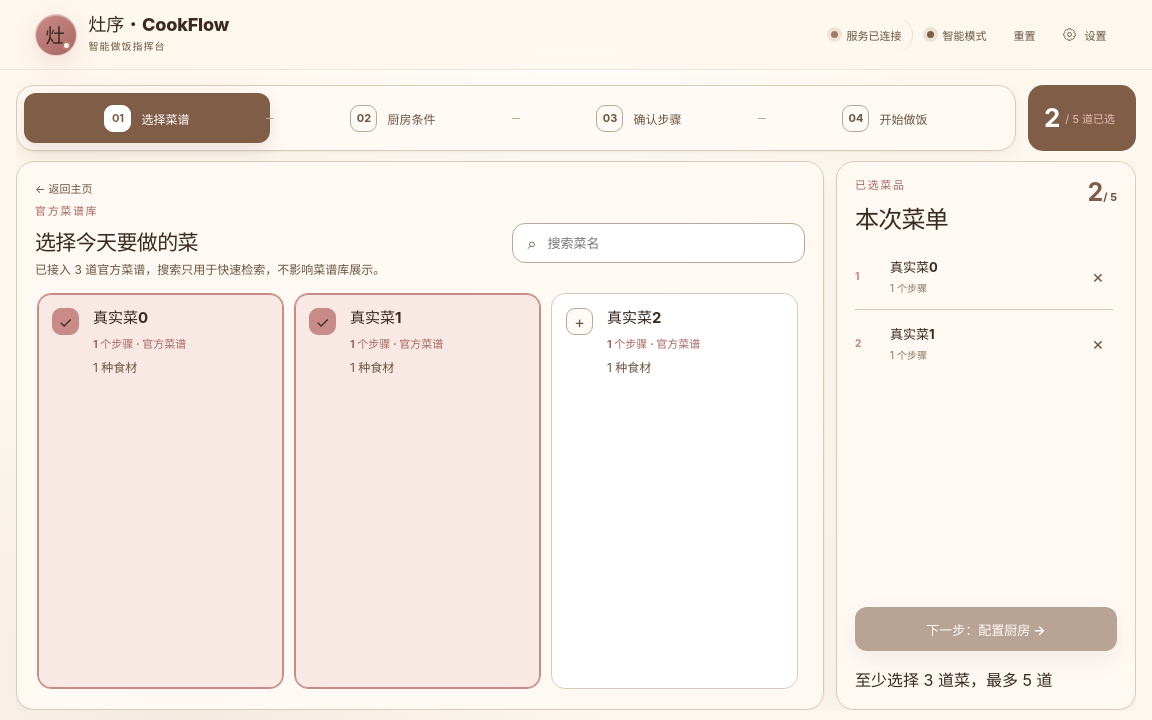
Test: HTTP: kitchen configuration reaches the real schedule request and the generated schedule is reused when cooking starts
Earlier steps of the test are not shown.
Later steps or results of the test are not shown.
Click the button "+ 真实菜2 1 个步骤 · 官方菜谱 1 种食材" at (674, 491), box [551,293,798,689]
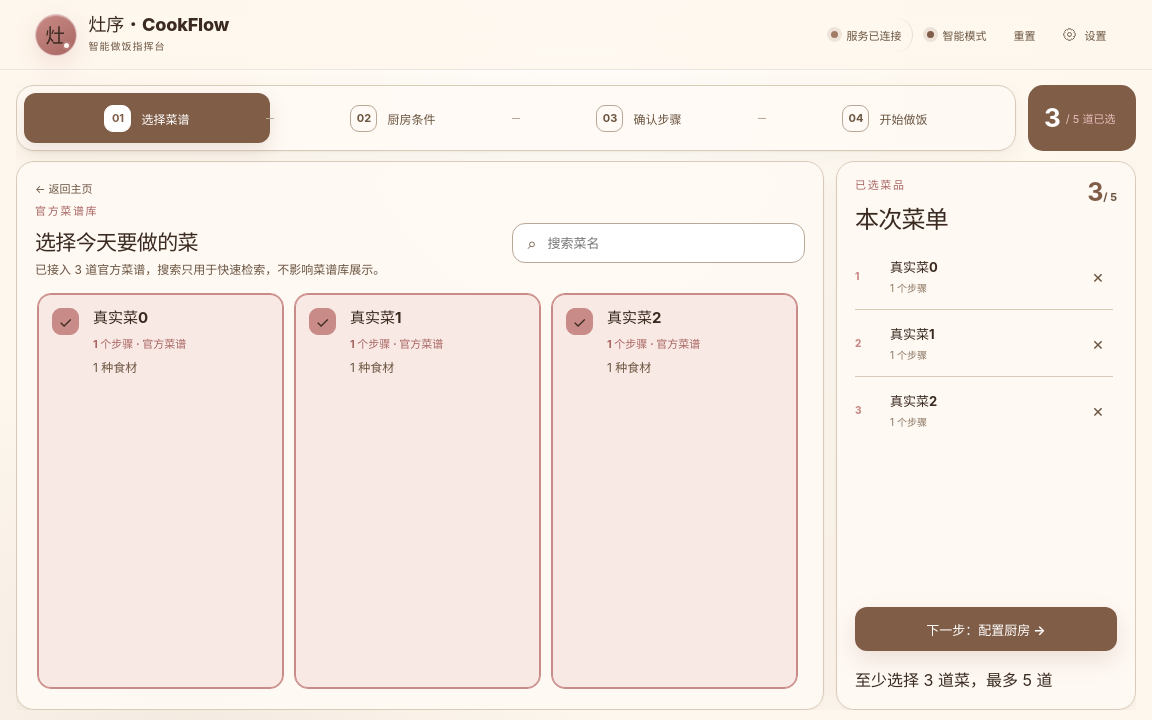
// Pick an explicit future day: a bare clock time is no longer a valid deadline.
Click the button "下一步：配置厨房 →" at (986, 629), box [855,607,1117,651]
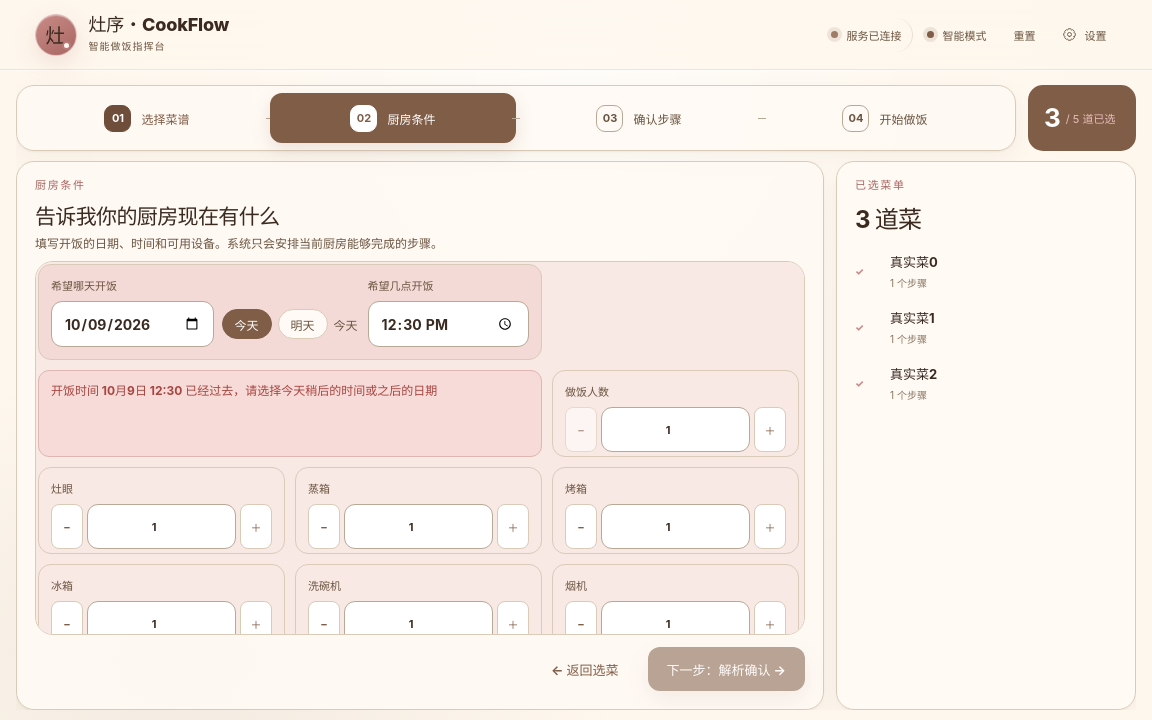
Now the heading "告诉我你的厨房现在有什么" is shown, box [35,204,280,229]
Replace the text in the number field named "灶眼" with "2" at (162, 526), box [87,504,236,549]
Click the button "明天" at (303, 324), box [278,309,328,339]
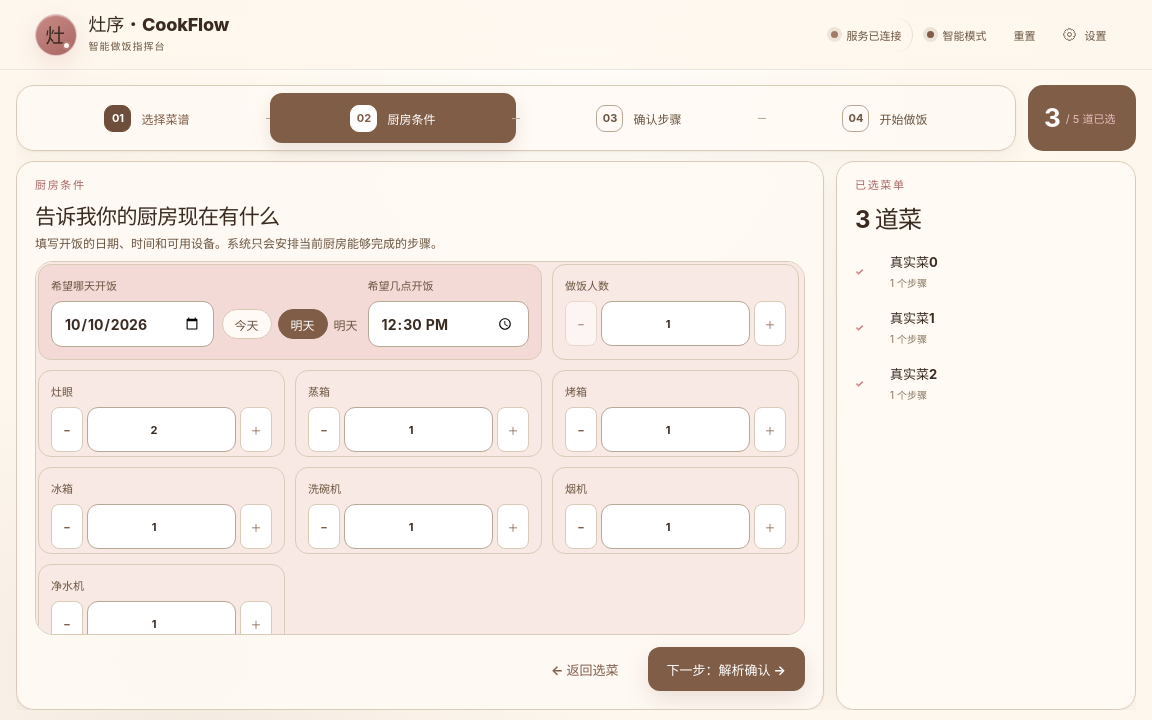
// Pick an explicit future day: a bare clock time is no longer a valid deadline.
Click the button "下一步：解析确认 →" at (726, 669), box [648,647,805,691]
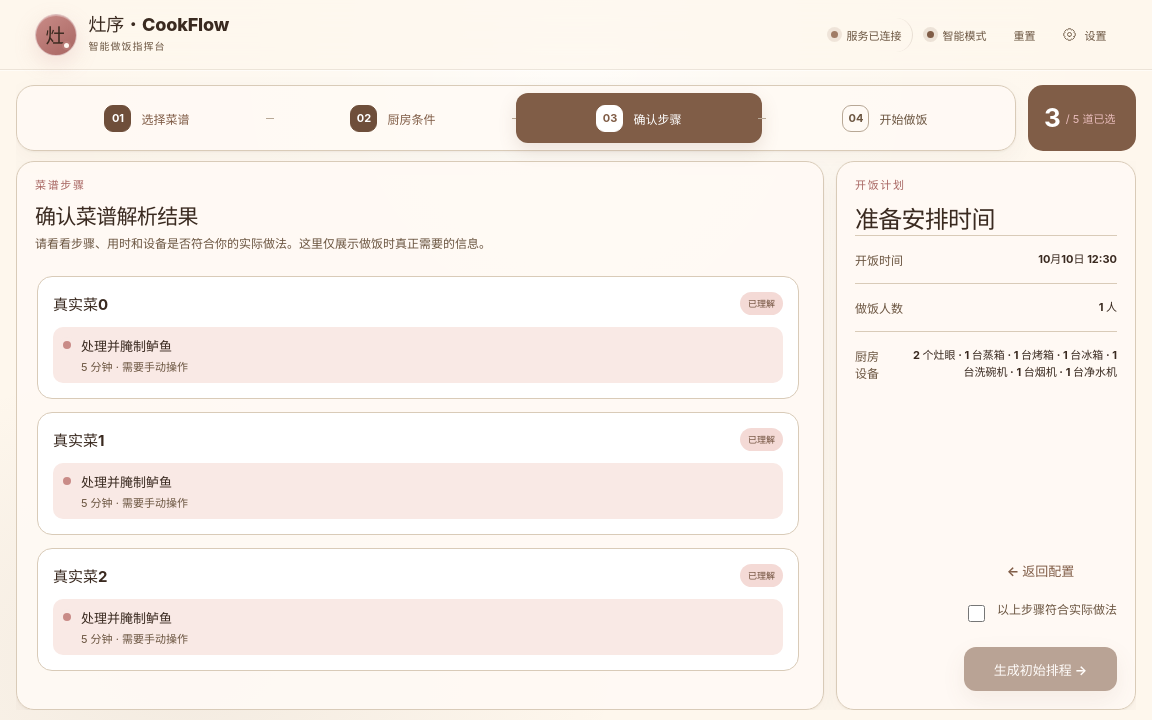
Now the heading "确认菜谱解析结果" is shown, box [35,204,198,229]
Now the text "2 个灶眼 · 1 台蒸箱 · 1 台烤箱 · 1 台冰箱 · 1 台洗碗机 · 1 台烟机 · 1 台净水机" is shown, box [902,347,1117,381]
Click the button "← 返回配置" at (1040, 570), box [964,548,1117,592]
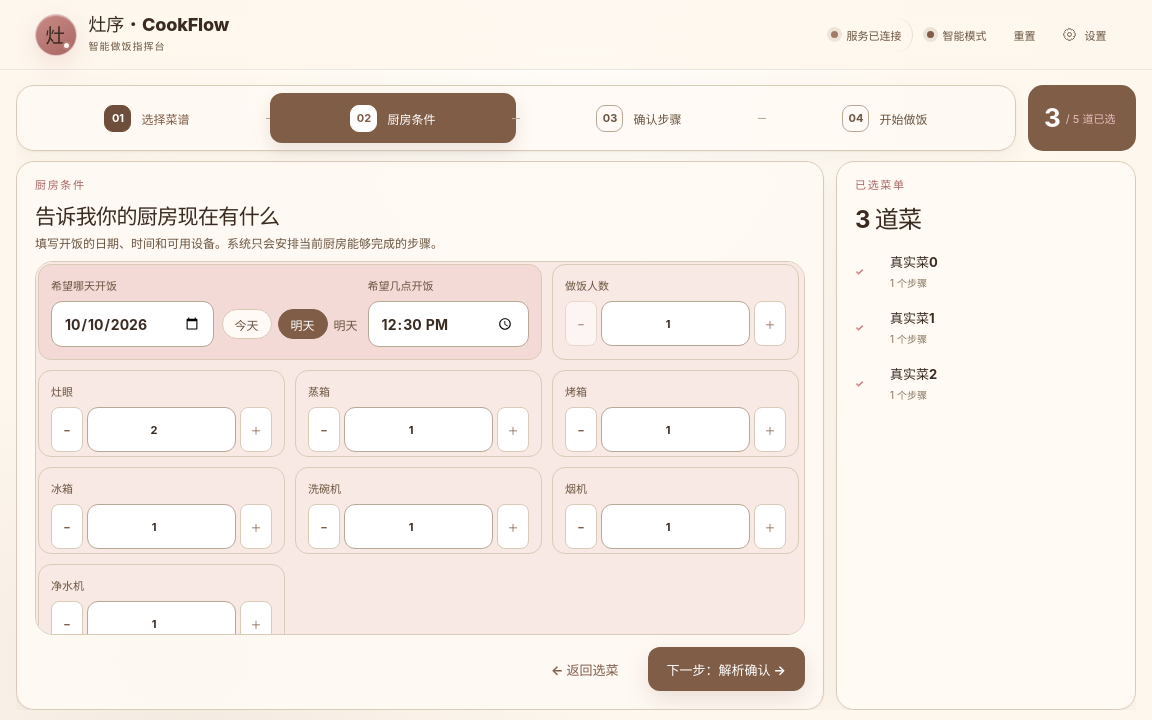
Now the number field named "灶眼" holds "2", box [87,407,236,452]
Click the button "明天" at (303, 324), box [278,309,328,339]
Click the button "下一步：解析确认 →" at (726, 669), box [648,647,805,691]
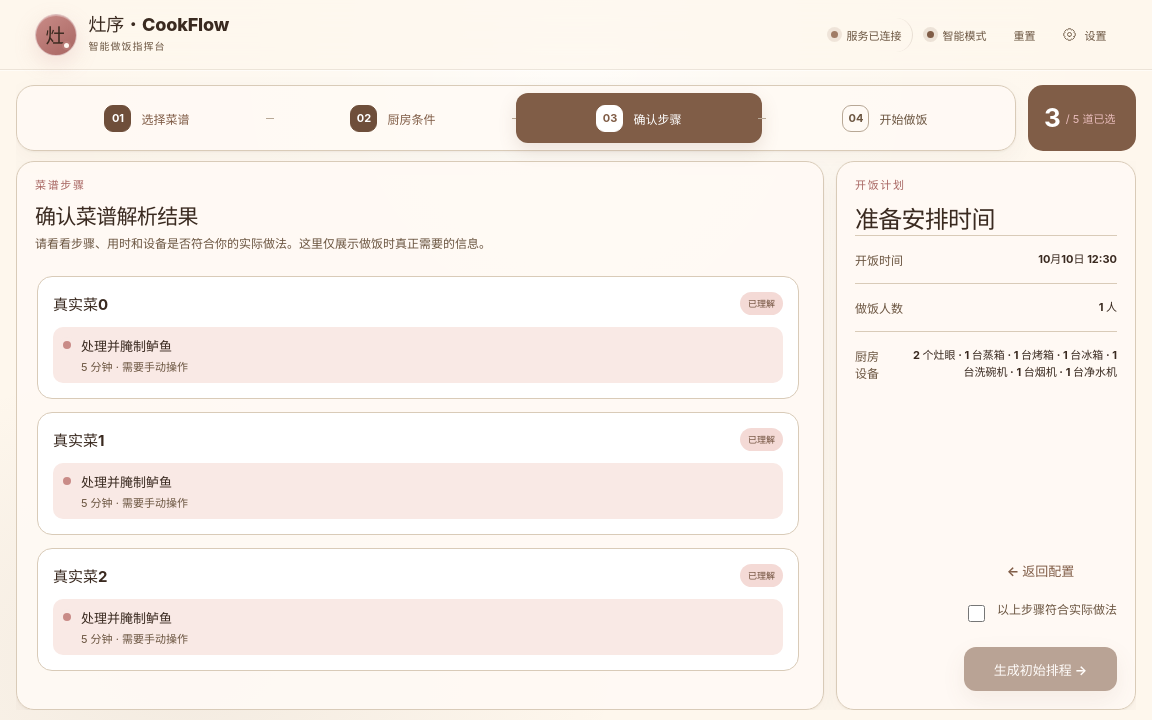
Now the heading "确认菜谱解析结果" is shown, box [35,204,198,229]
